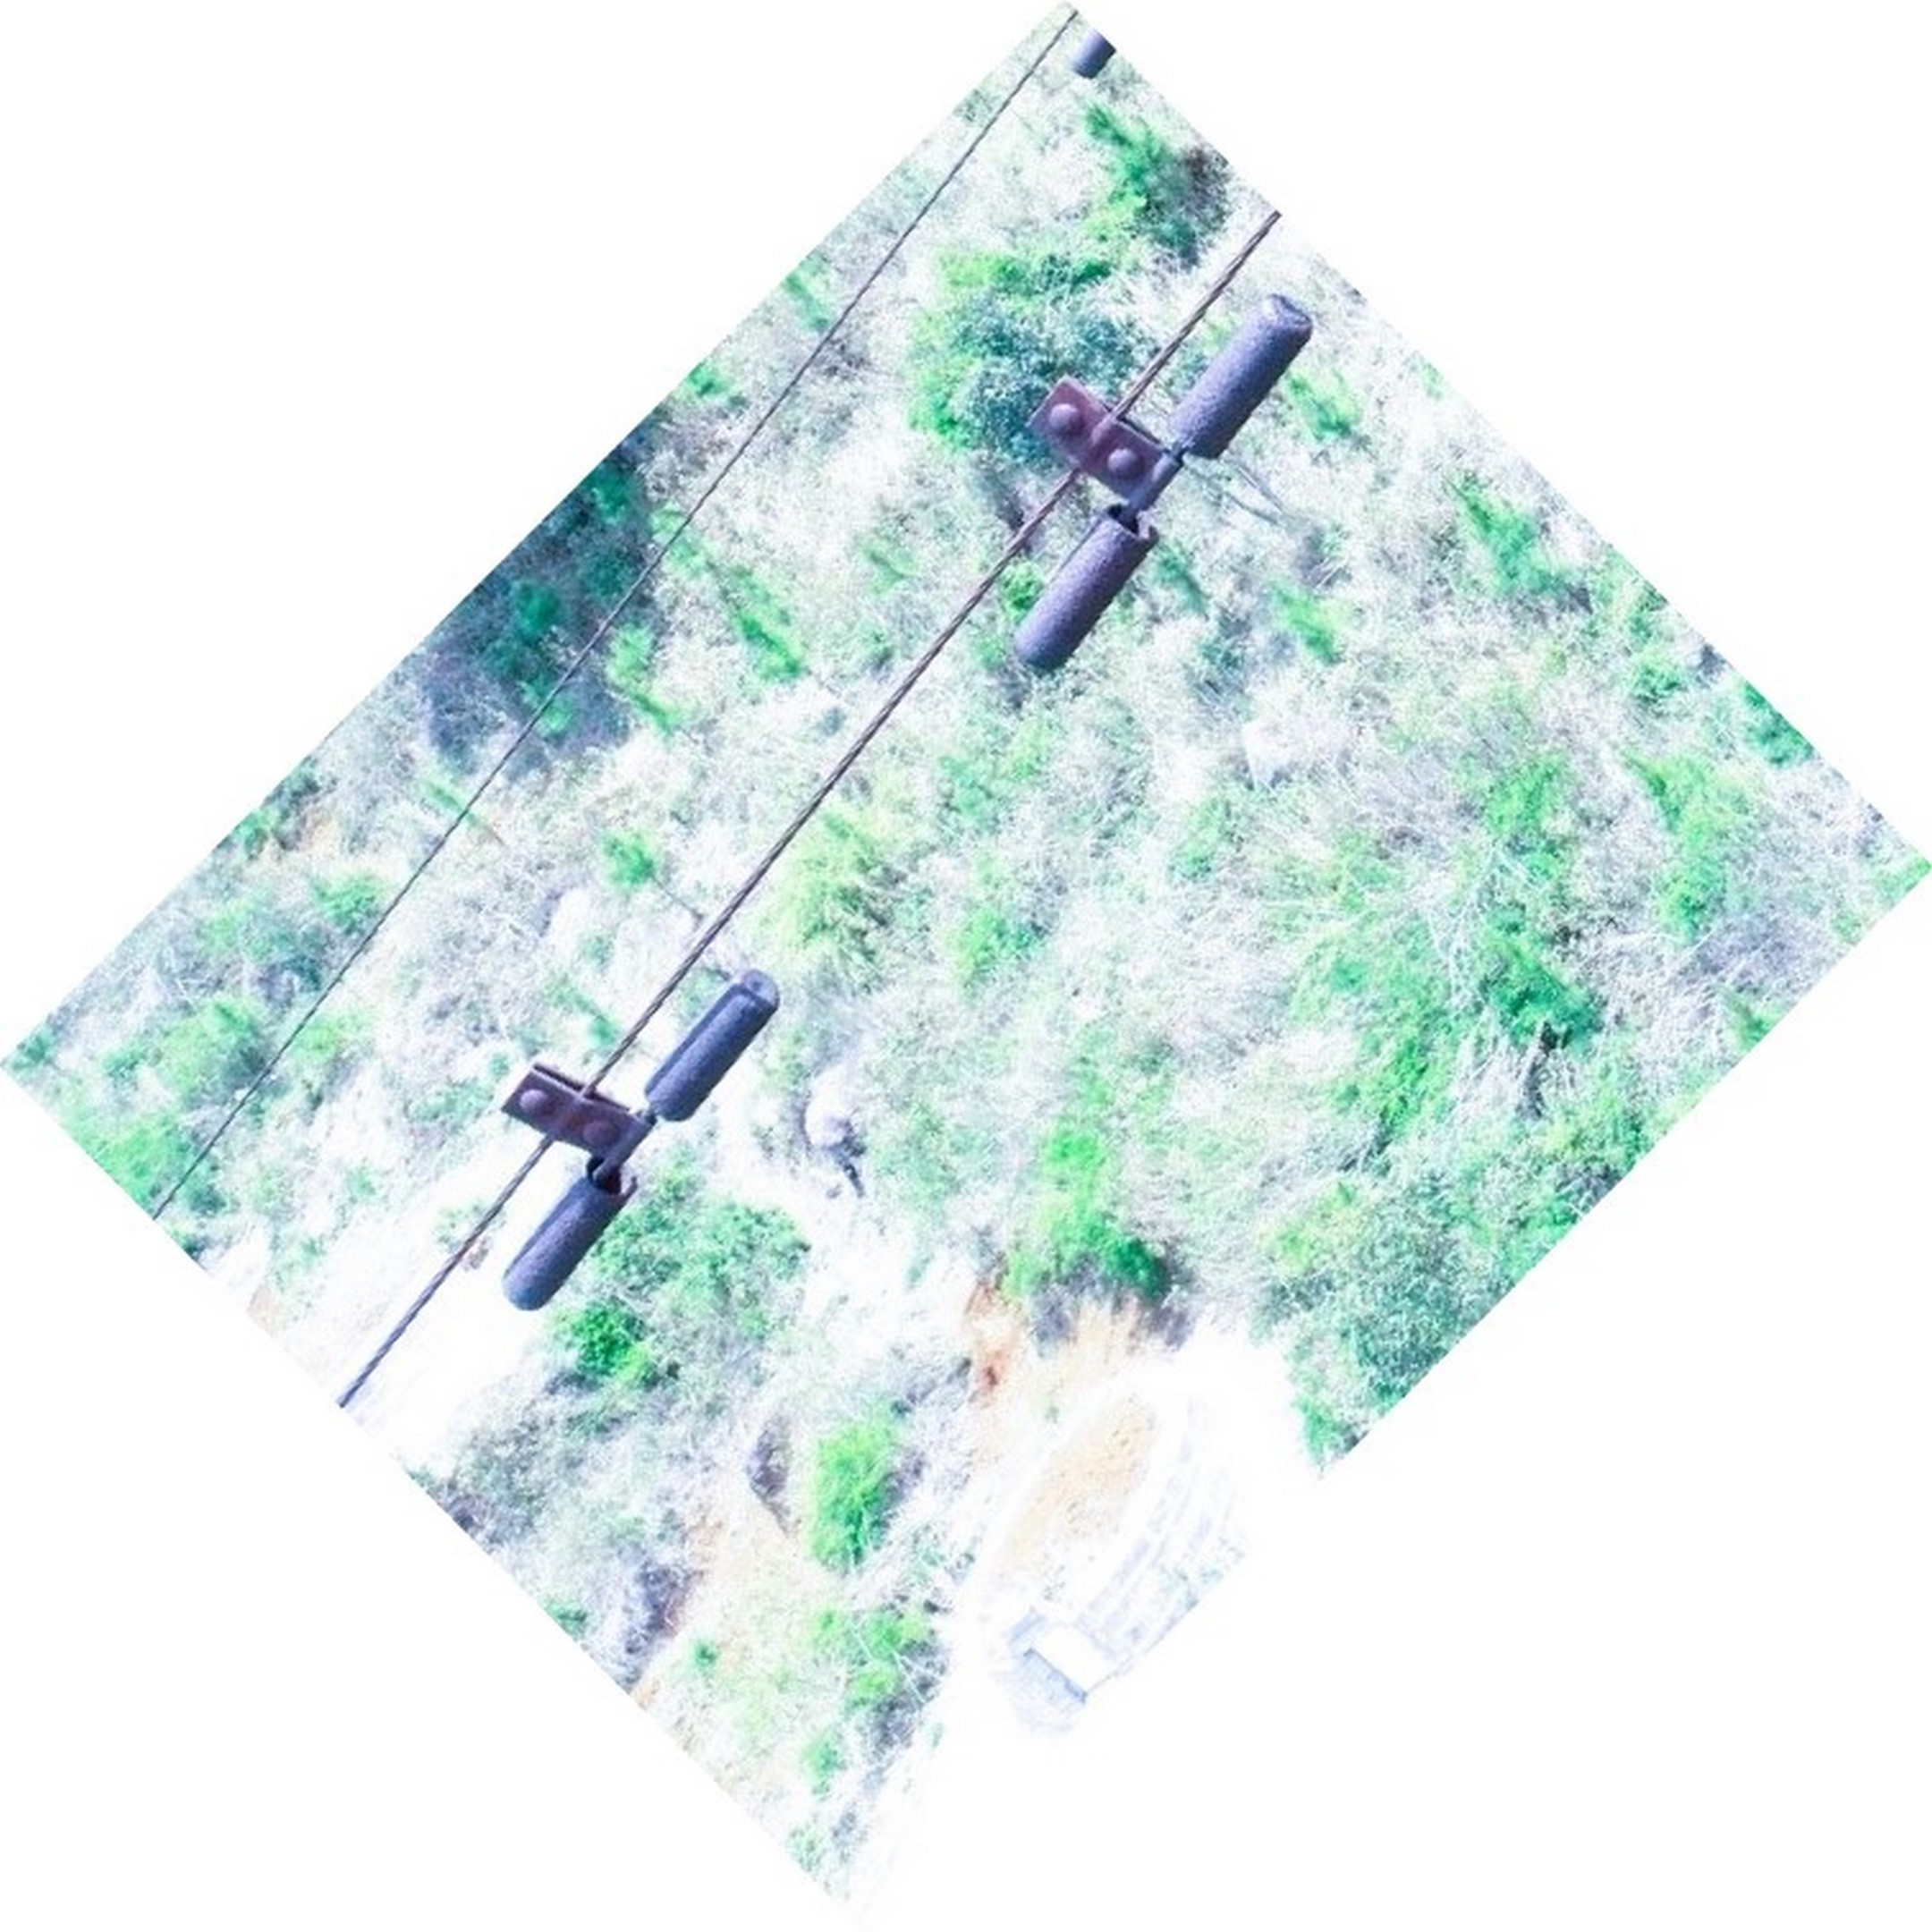Shockproof hammer: (985, 278, 1322, 690), (467, 925, 803, 1325)
